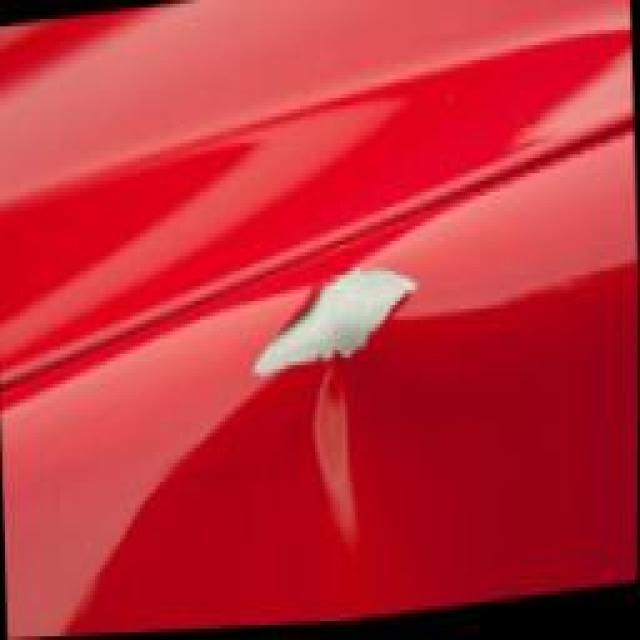Bumper: (198, 215, 461, 557)
